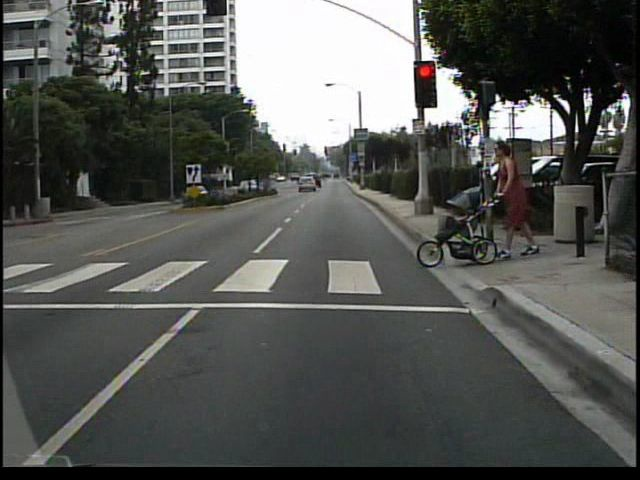person: (488, 142, 547, 264)
